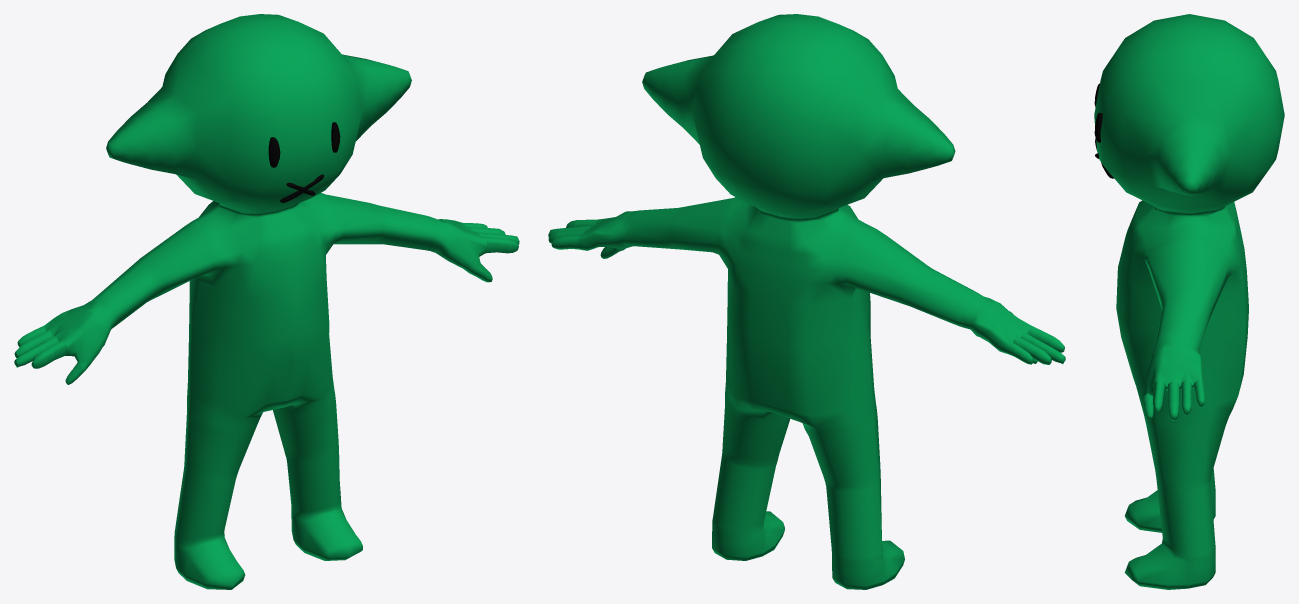
File: goburin.fbx
The picture shows the model from 3 angles, left to right: view 1: azimuth 30°, elevation 25°; view 2: azimuth 150°, elevation 25°; view 3: azimuth 270°, elevation 25°; orthographic projection. The views are drawn at different scales.
Visible parts, largest first — view 1: goburin; view 2: goburin; view 3: goburin.
Boxes of the visible parts, x1,y1,x2,y2 form: goburin: (14,14,519,589); goburin: (548,14,1065,589); goburin: (1094,14,1284,589).
Size of the model in its own units: 2.04 by 2.05 by 0.6746.
